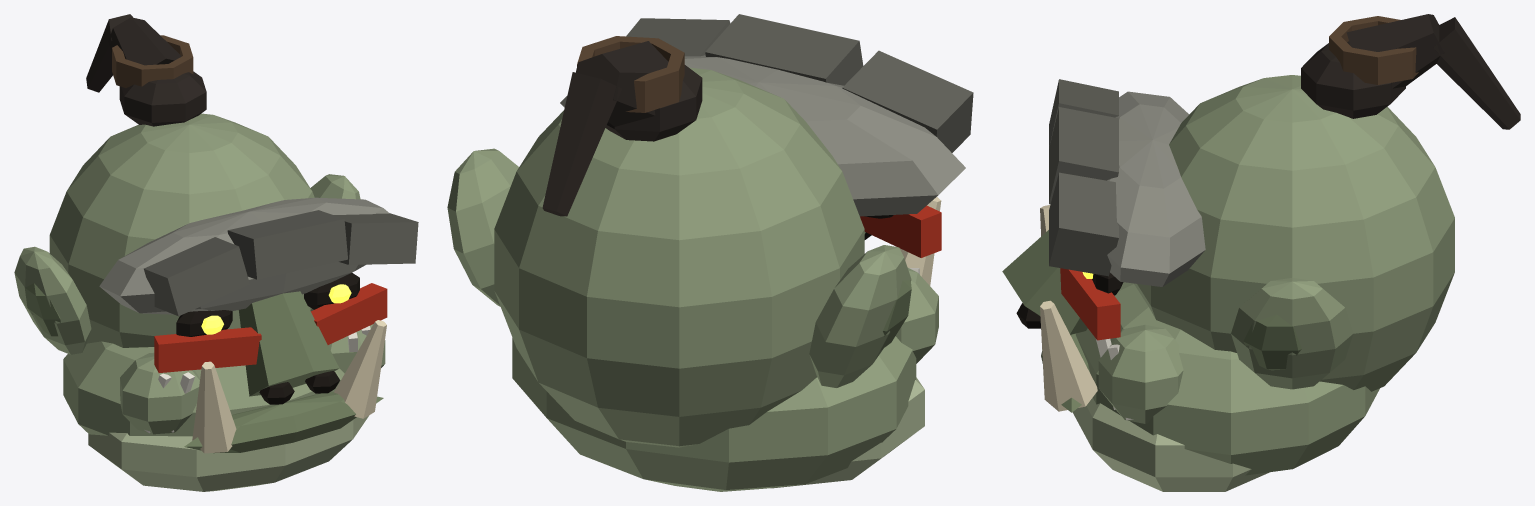
File: stonebrow_head.glb
3 renders of one model, left to right at view 1: azimuth 30°, elevation 25°; view 2: azimuth 150°, elevation 25°; view 3: azimuth 270°, elevation 25°, orthographic. The views are drawn at different scales.
Visible parts, largest first — view 1: stonebrow_head; view 2: stonebrow_head; view 3: stonebrow_head.
Part boxes in pixels (left/top/right/bottom): stonebrow_head: left=14, top=14, right=418, bottom=491; stonebrow_head: left=447, top=14, right=973, bottom=491; stonebrow_head: left=1002, top=14, right=1520, bottom=491.
Bounding box in the file's own units: 0.7226 × 0.8058 × 0.8462.
